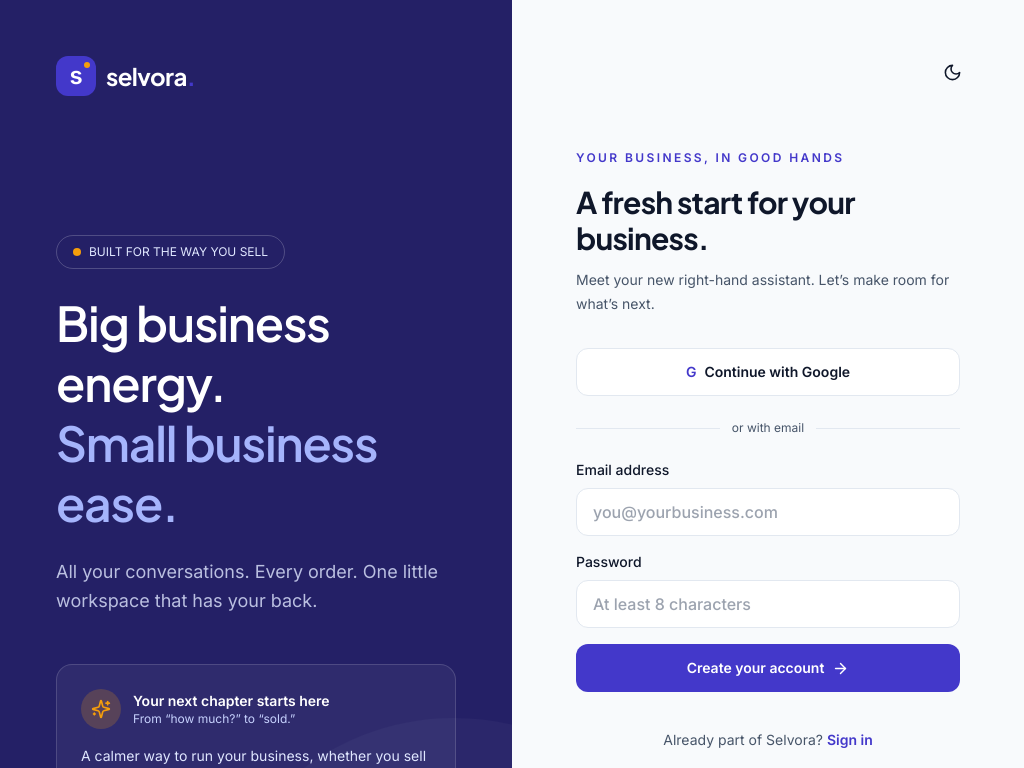
Test: foundation › does not pretend authentication works without configuration
The width and height of the screenshot is (1024, 768).
Step 1. Click the button "G Continue with Google" → x=768, y=372, box 576,348 -> 960,396
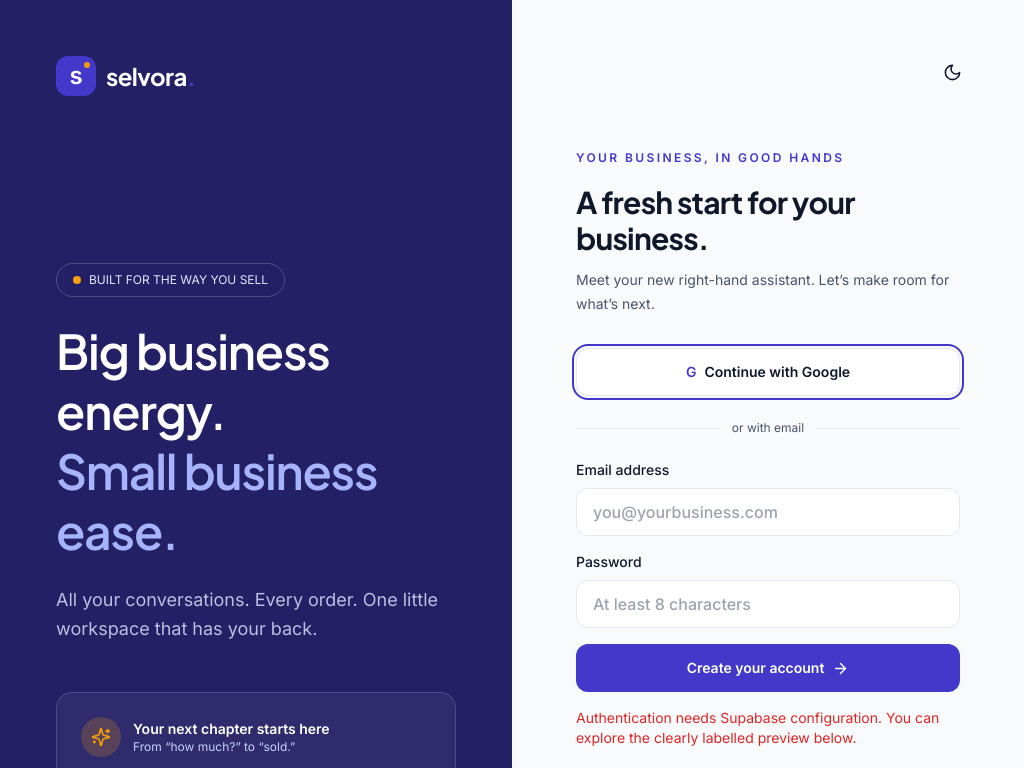
Expected: the message shows "Authentication needs Supabase configuration", 576,709 -> 939,746
